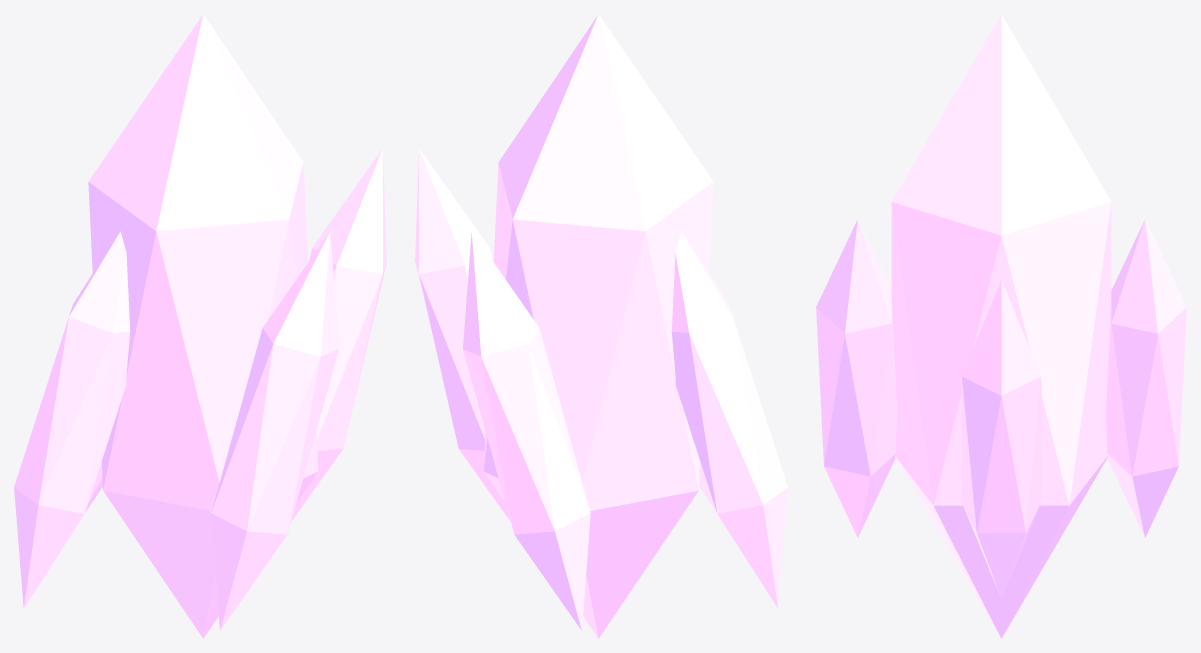
Rendered from arcane_core_a.glb.
The picture shows the model from 3 angles, left to right: view 1: azimuth 30°, elevation 25°; view 2: azimuth 150°, elevation 25°; view 3: azimuth 270°, elevation 25°; orthographic projection.
Parts seen in each view (by area): view 1: arcane_core_a; view 2: arcane_core_a; view 3: arcane_core_a.
Boxes of the visible parts, x1,y1,x2,y2 form: arcane_core_a: (14, 14, 386, 638); arcane_core_a: (415, 14, 787, 638); arcane_core_a: (816, 14, 1186, 638).
Size of the model in its own units: 0.5838 by 0.96 by 0.5163.
